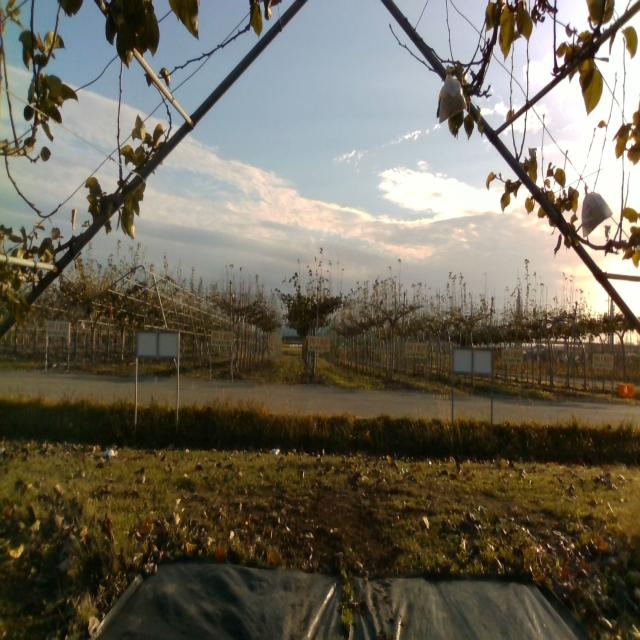pearbags: (438, 64, 468, 125), (580, 182, 612, 239)
